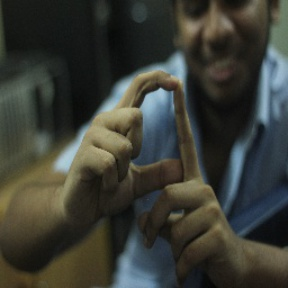D: (99, 72, 210, 212)
